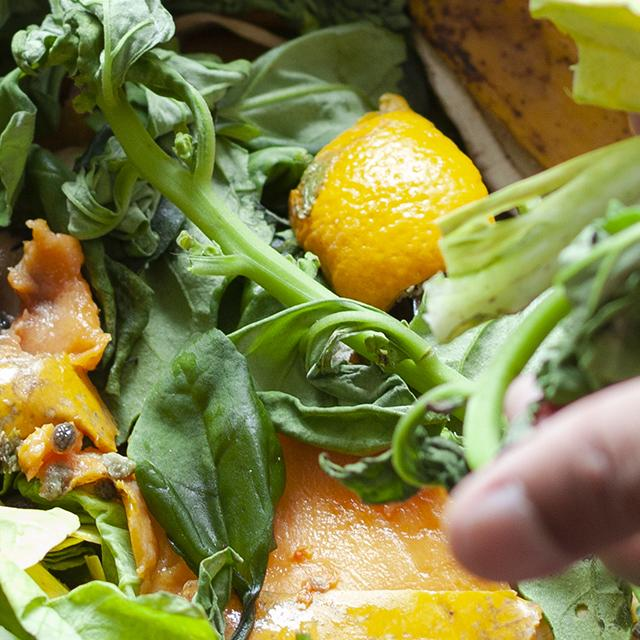food_waste: (236, 384, 527, 640), (0, 170, 181, 578), (0, 0, 341, 199), (80, 544, 640, 640), (277, 101, 517, 272)
